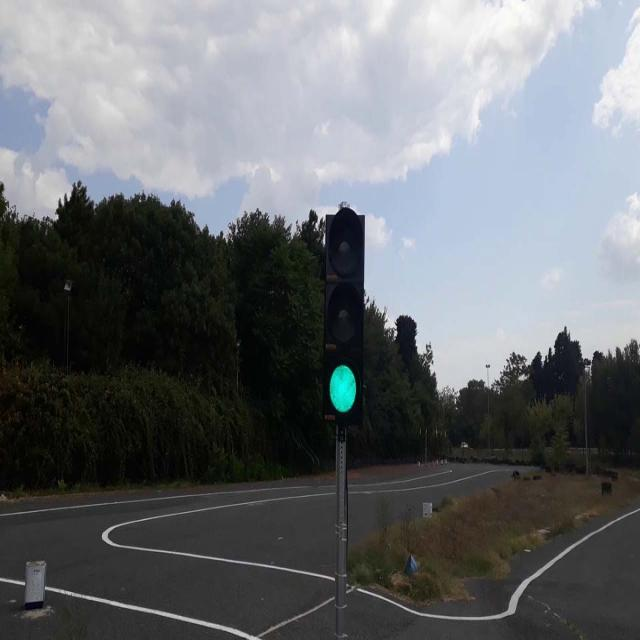yesil: (326, 212, 365, 424)
